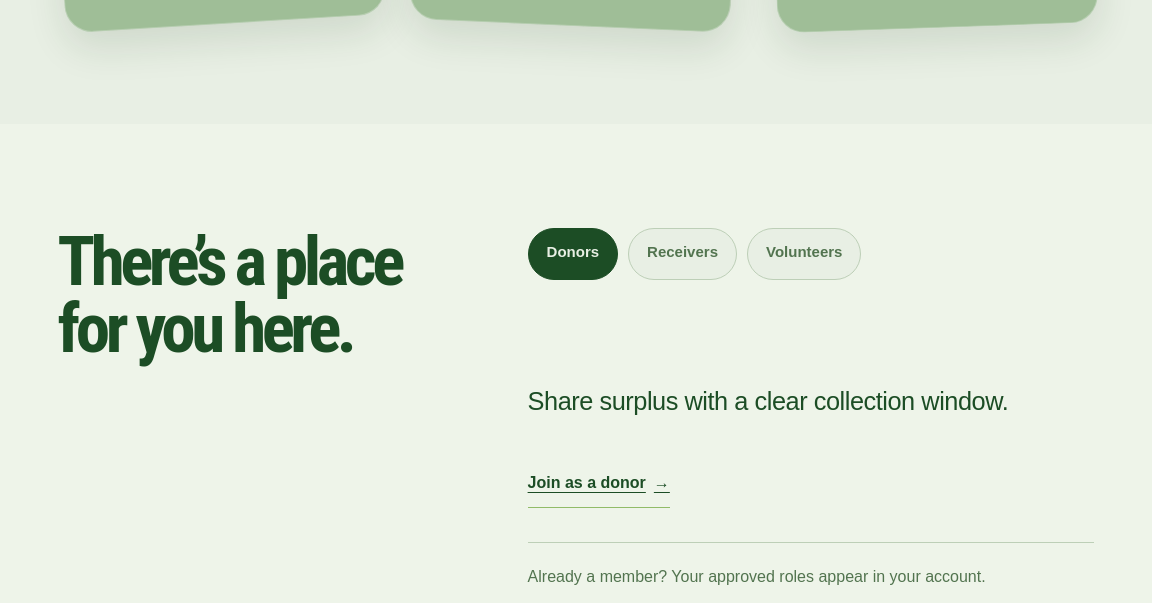
public community flow › switches between API-provided role descriptions with keyboard navigation
(page scrolled)
Click the tab "Receivers" at (683, 254), box 628,228 -> 737,280
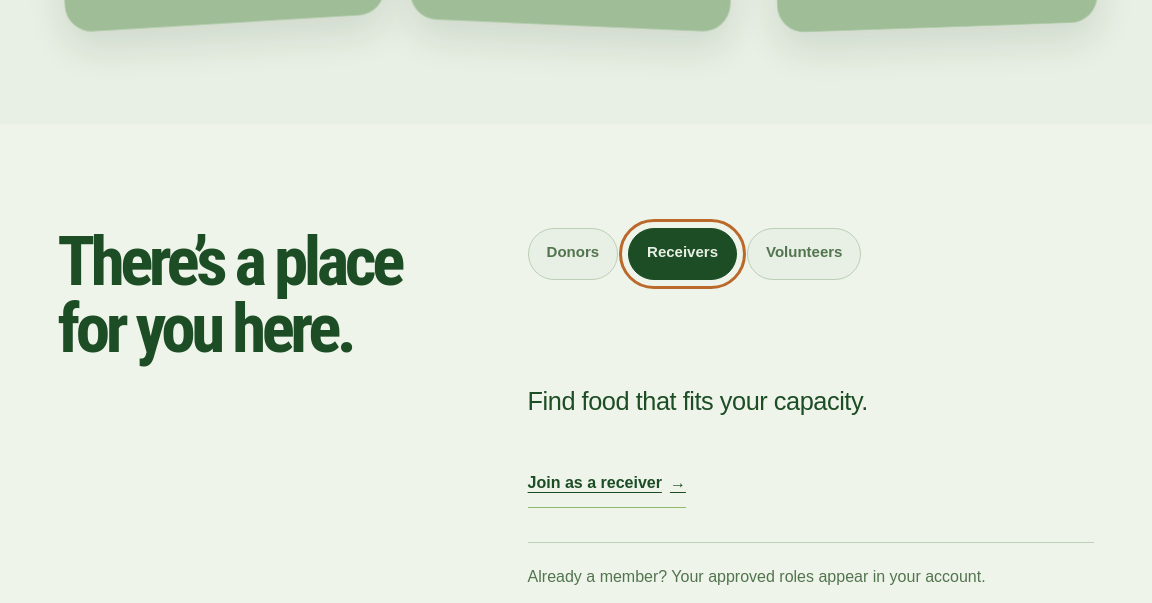
Expected: the panel shows "Find food that fits your capacity.", 528,387 -> 868,415
Press Arrowright
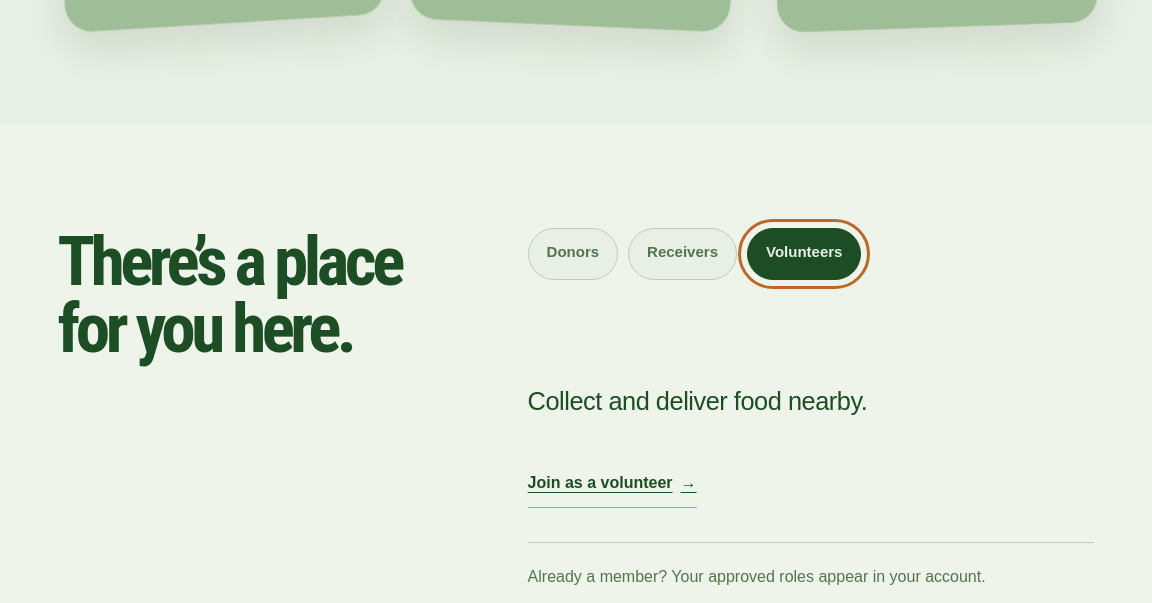
Expected: the panel shows "Collect and deliver food nearby.", 528,387 -> 867,415
